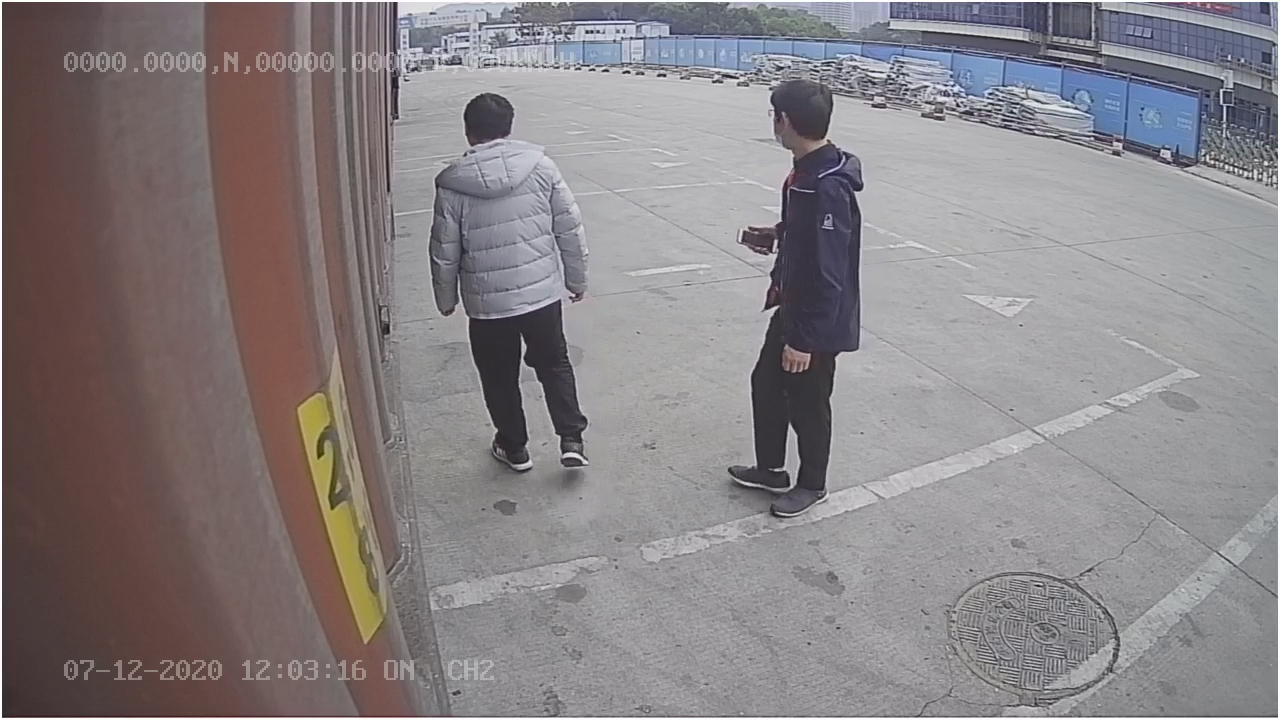person: (425, 90, 601, 482), (721, 74, 865, 516)
